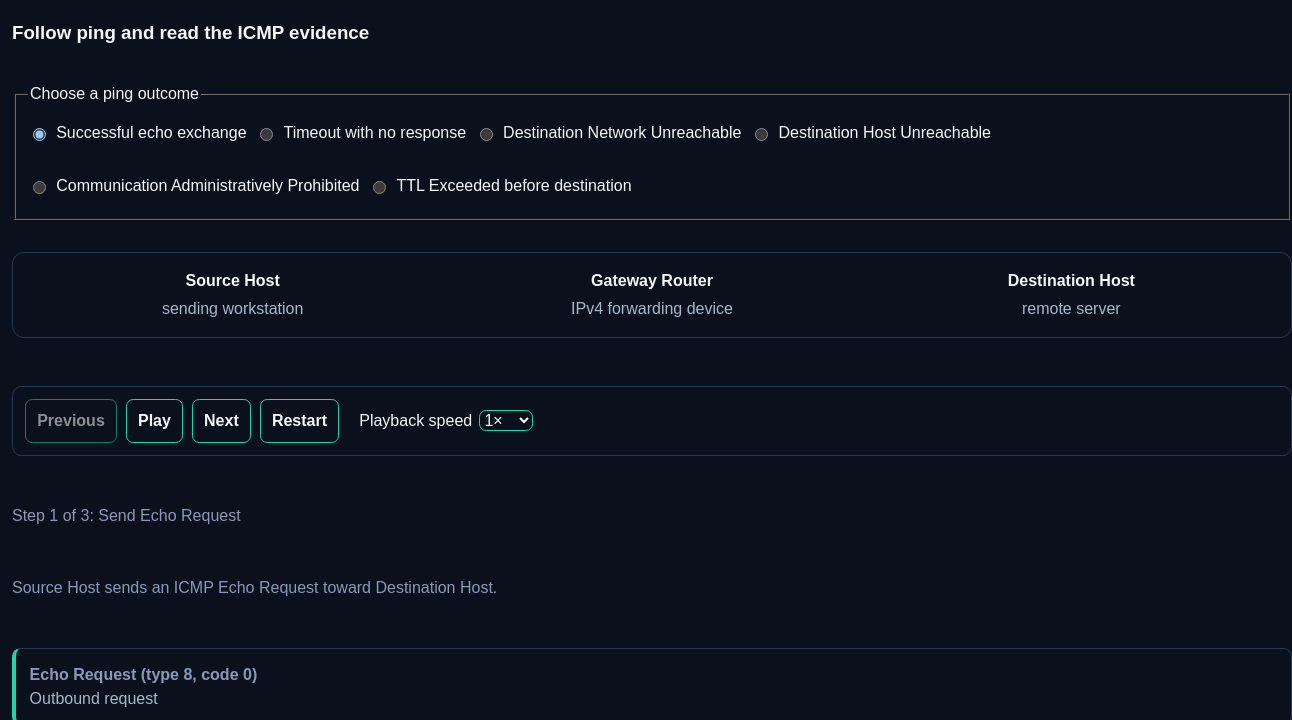
Test: PingEvidencePlayer › supports manual controls, all speeds, reset, and terminal-only progress
Click the button "Next" at (221, 421), box [192,399,251,443]
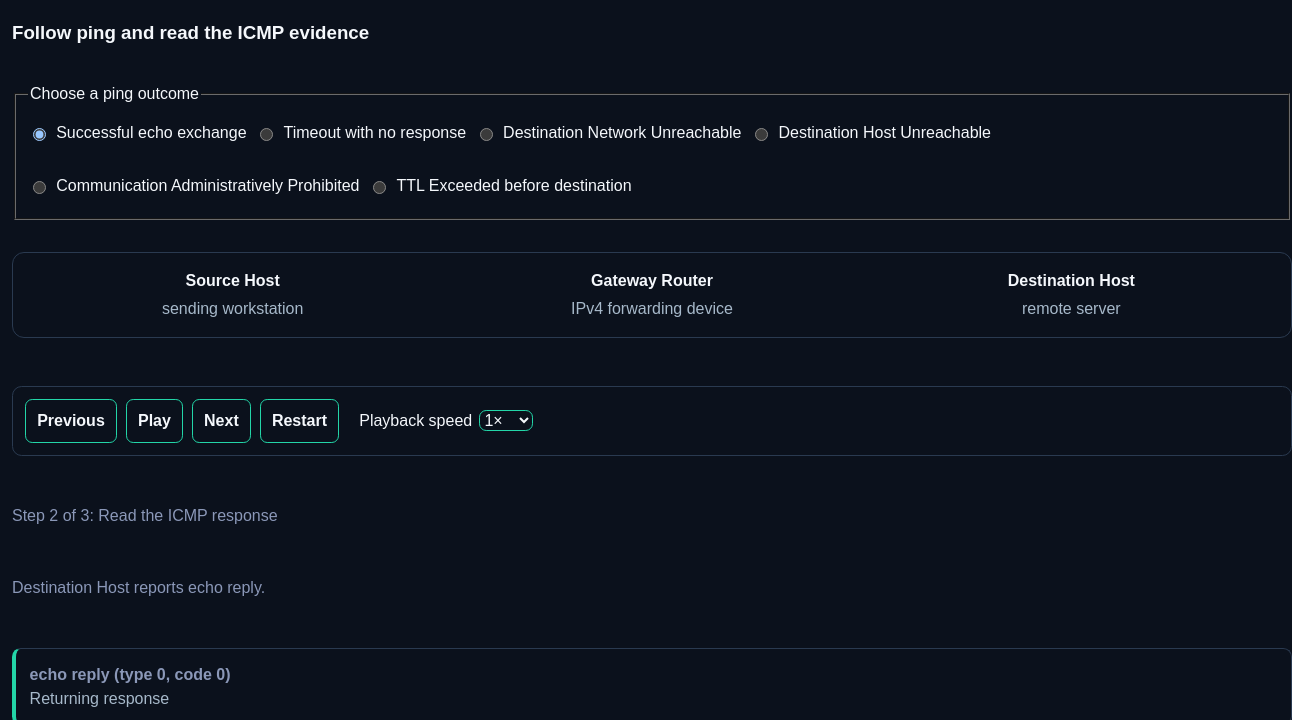
Click the button "Previous" at (71, 421), box [25,399,117,443]
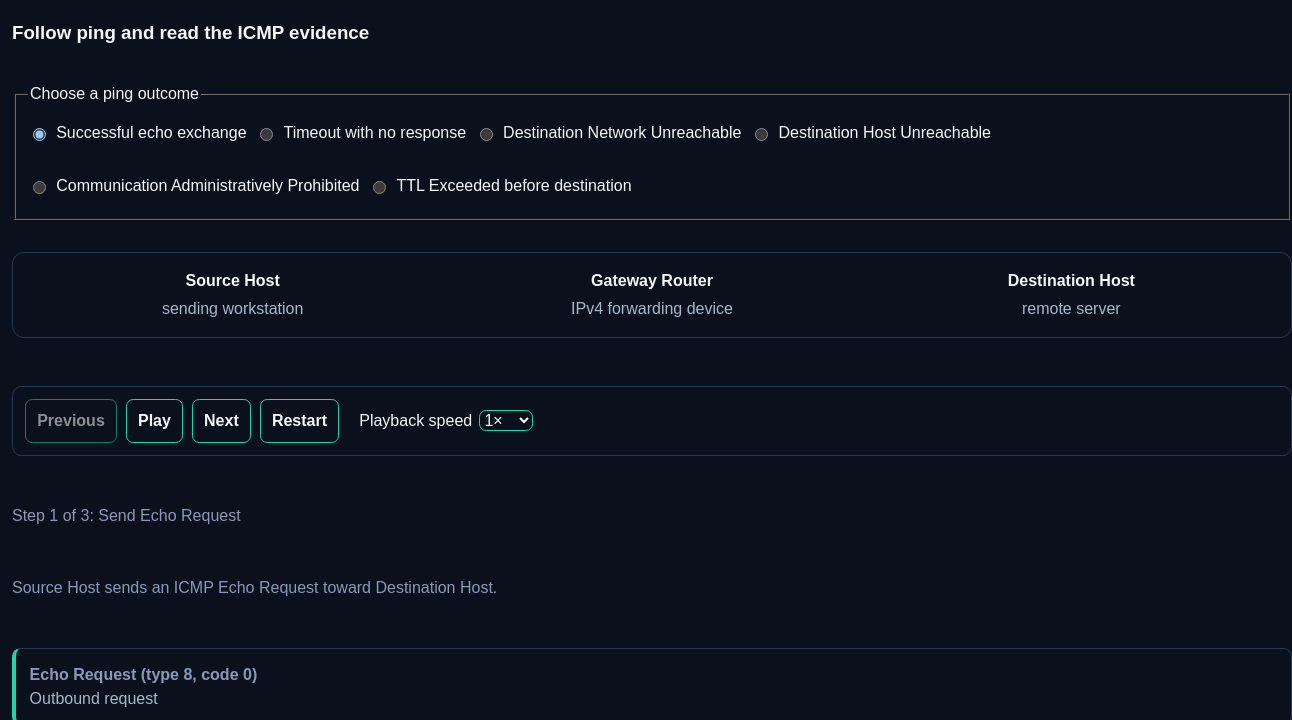
Click the button "Next" at (221, 421), box [192,399,251,443]
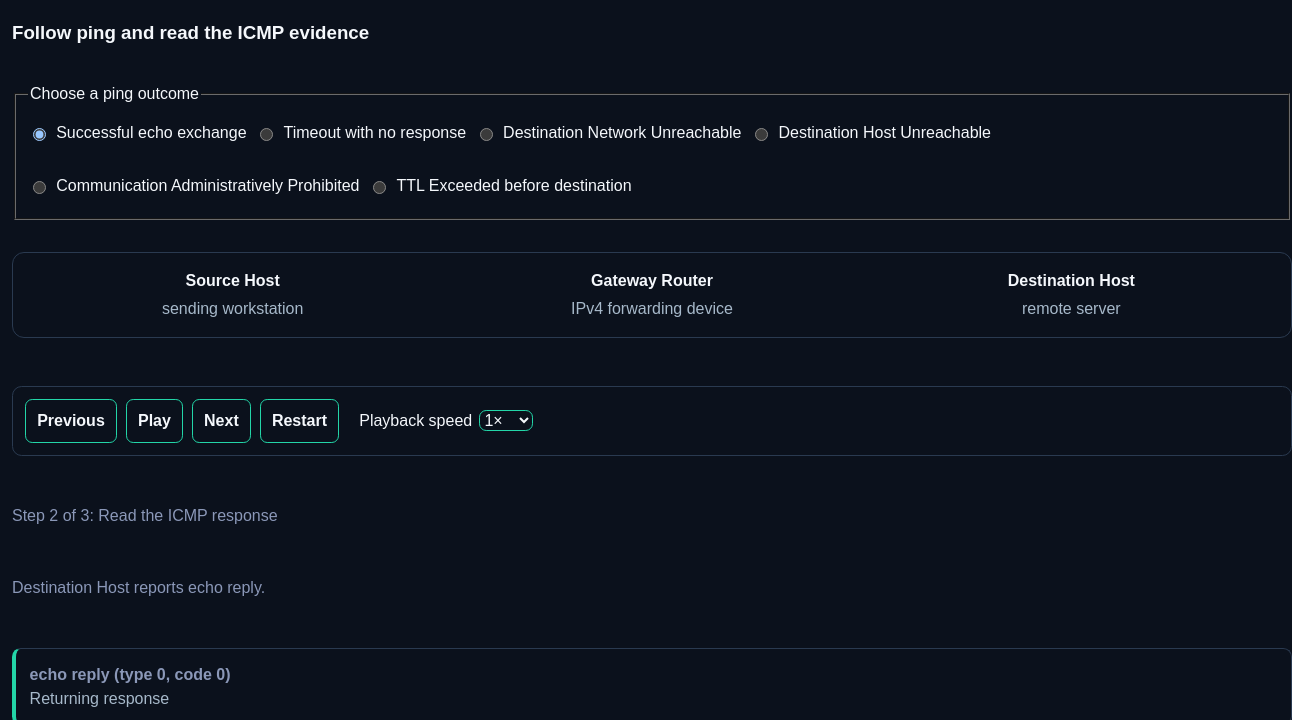
Click the button "Next" at (221, 421), box [192,399,251,443]
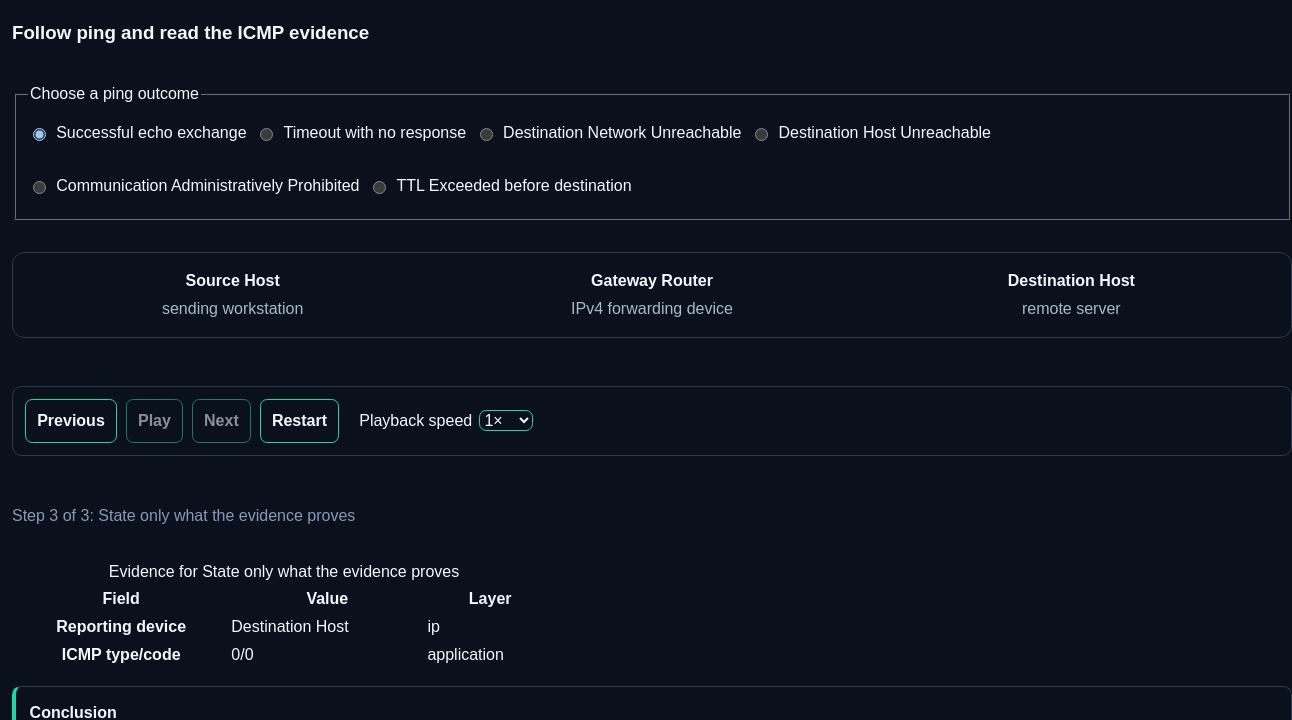
Click the button "Restart" at (299, 421), box [260,399,339,443]
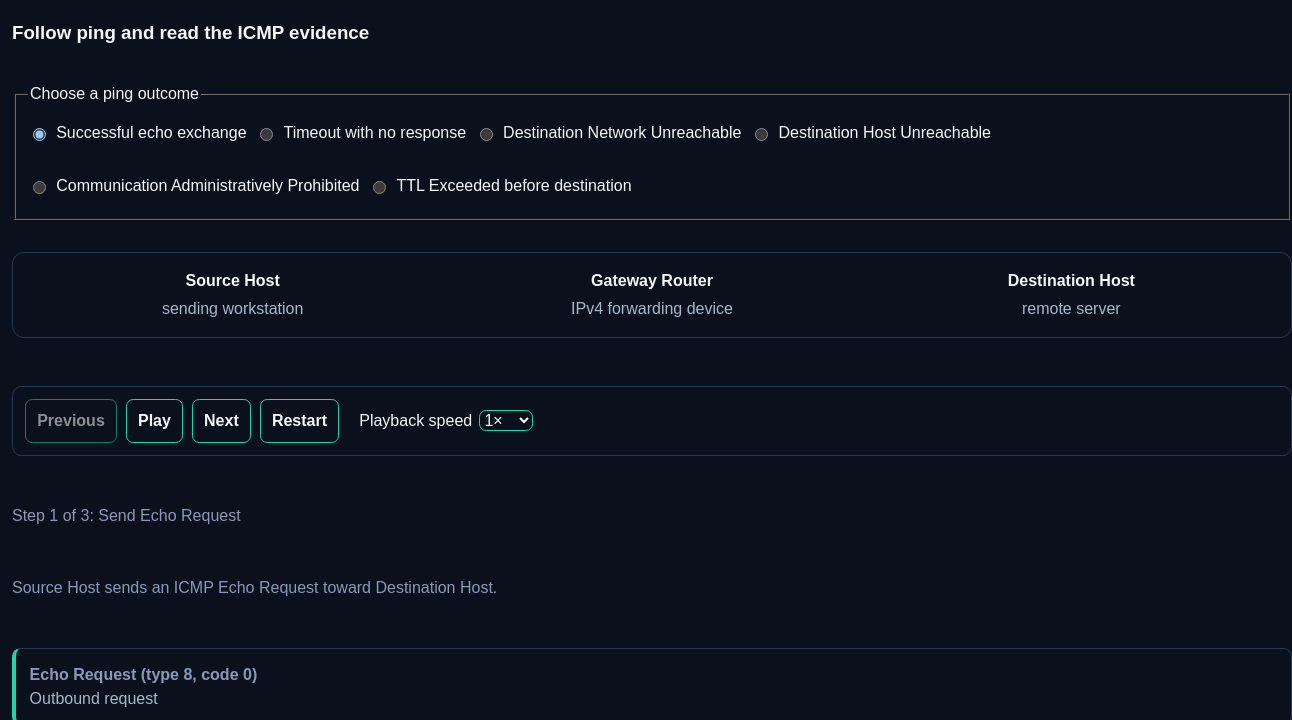
Check: the message shows "Step 1 of 3", box [12,507,241,524]
